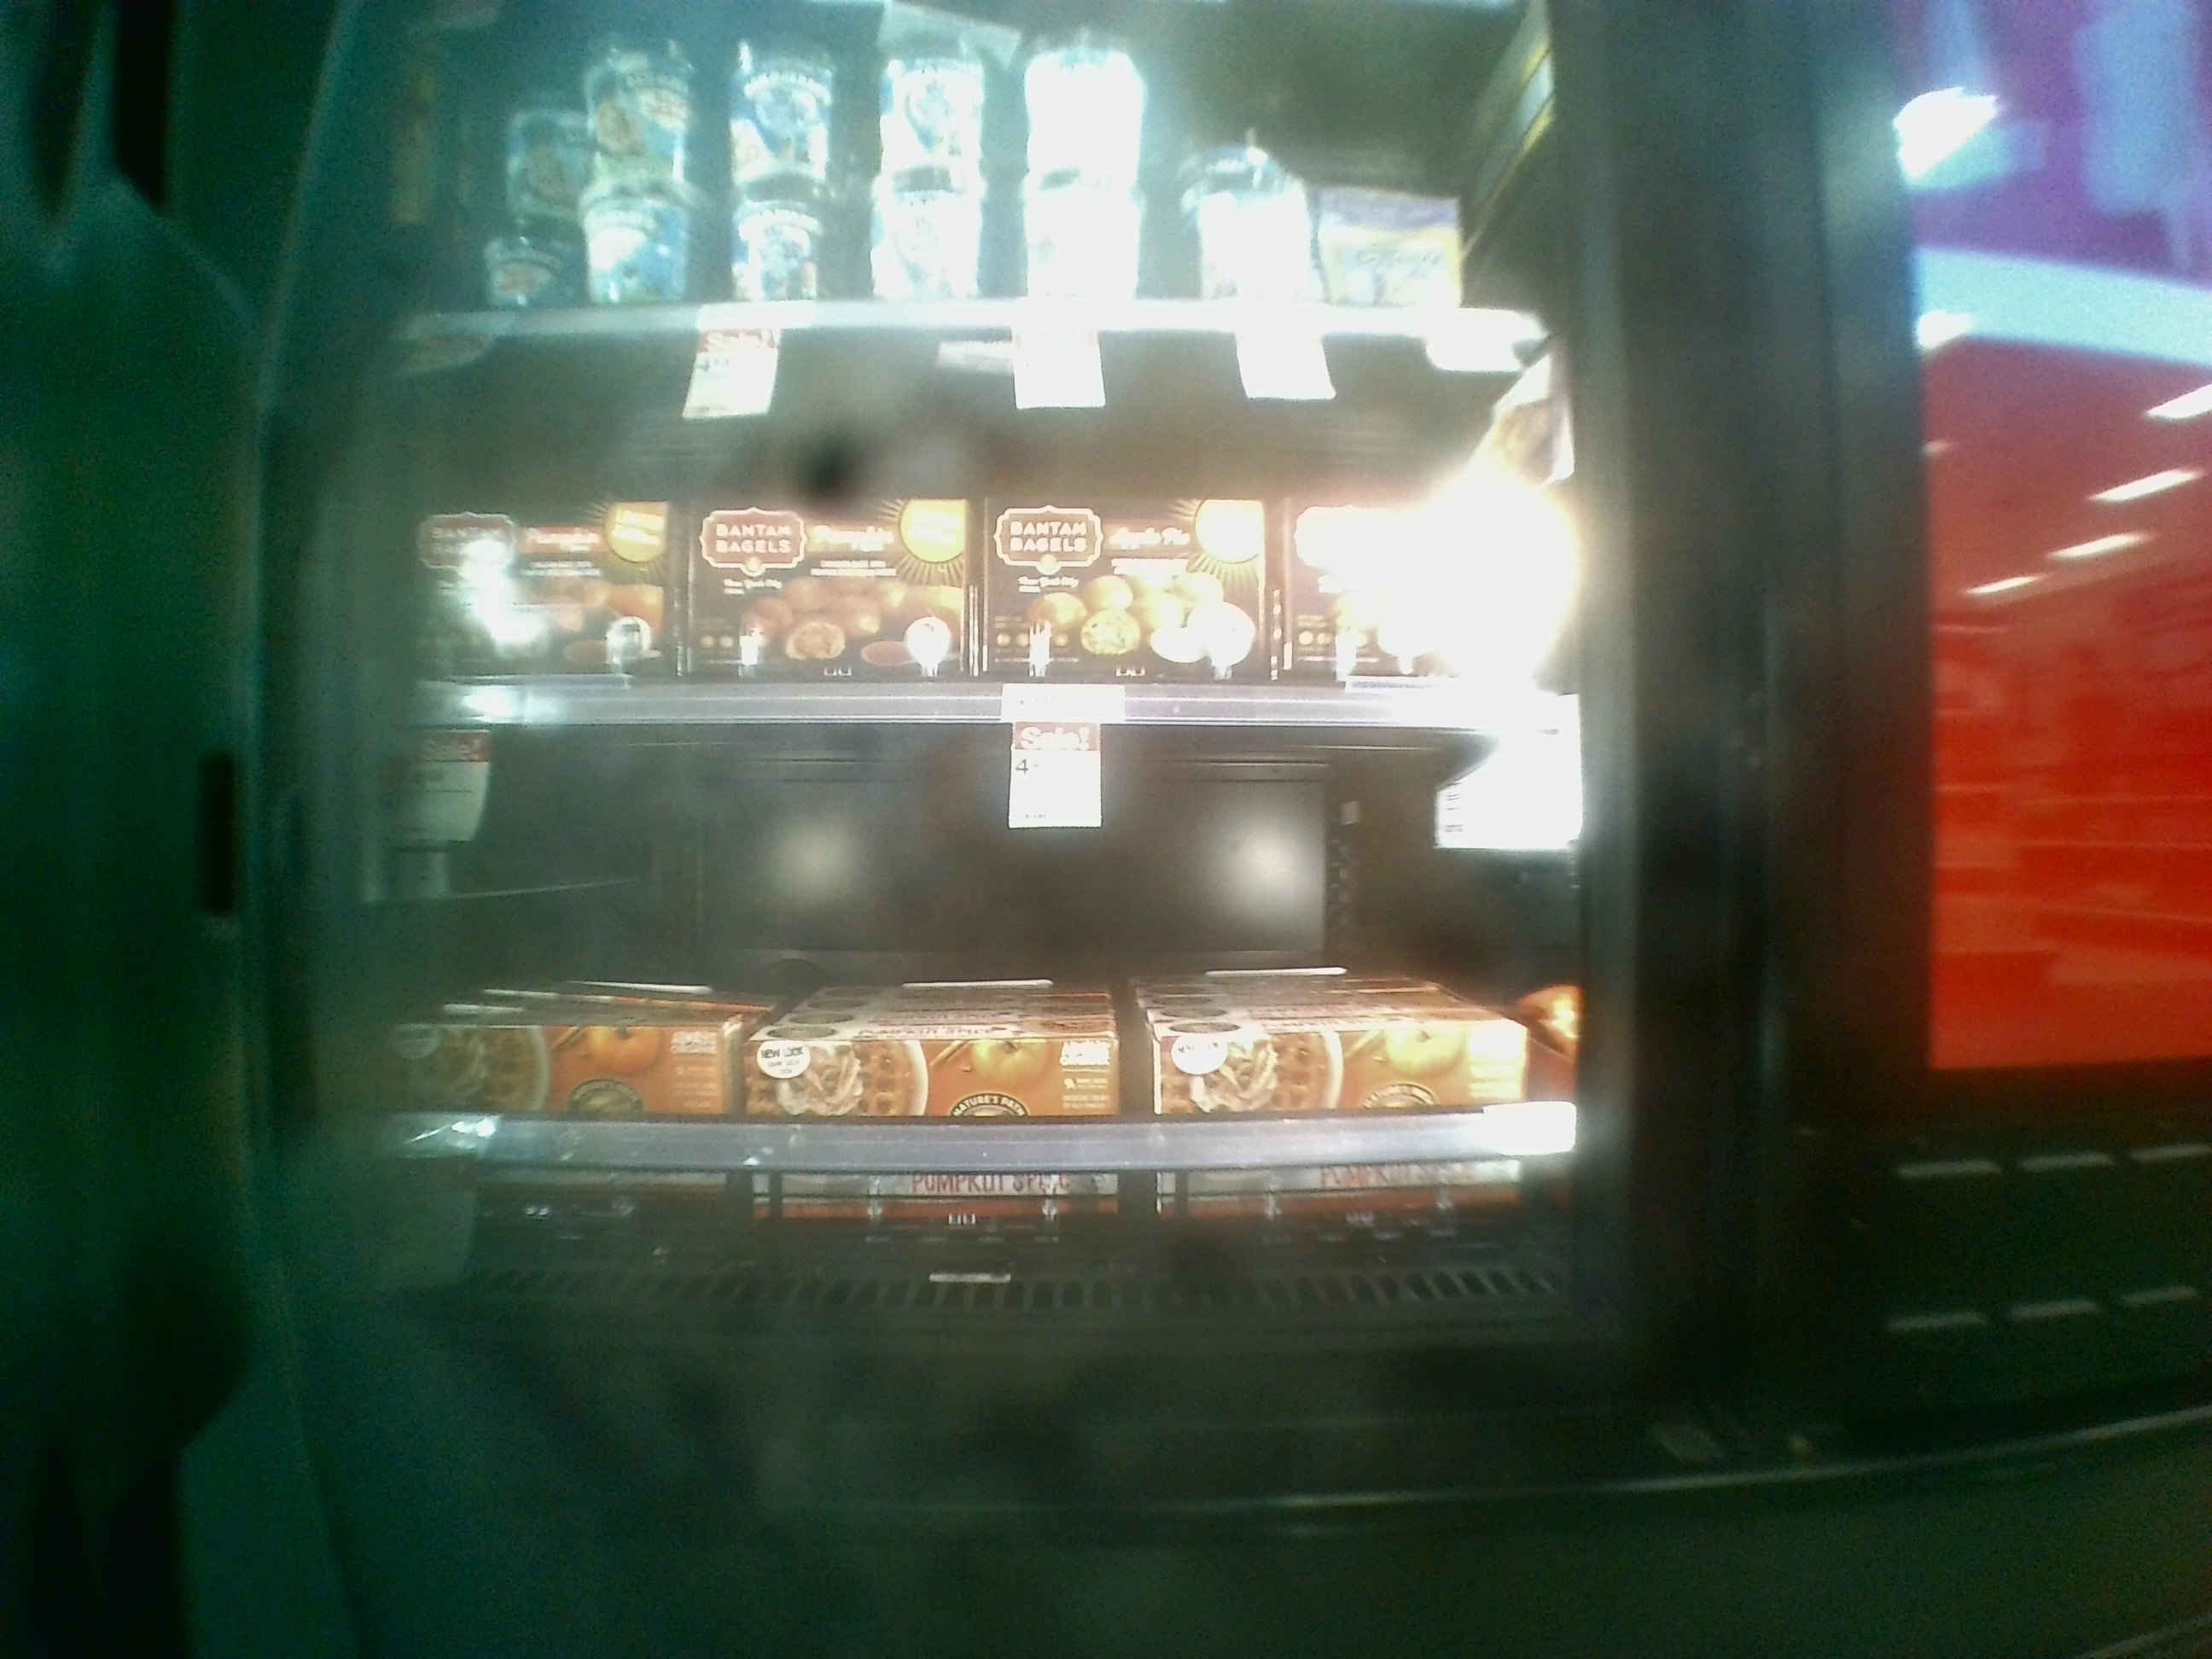shelf: (361, 732, 1602, 1310), (364, 331, 1609, 741)
